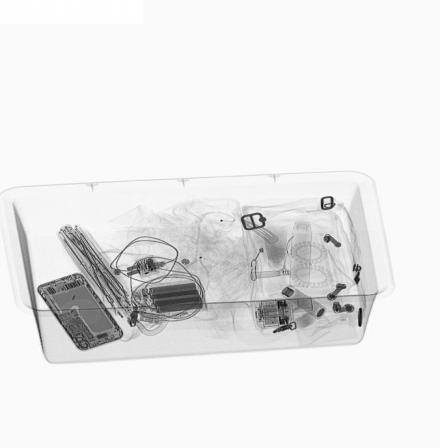Powerbank: (141, 279, 204, 314)
